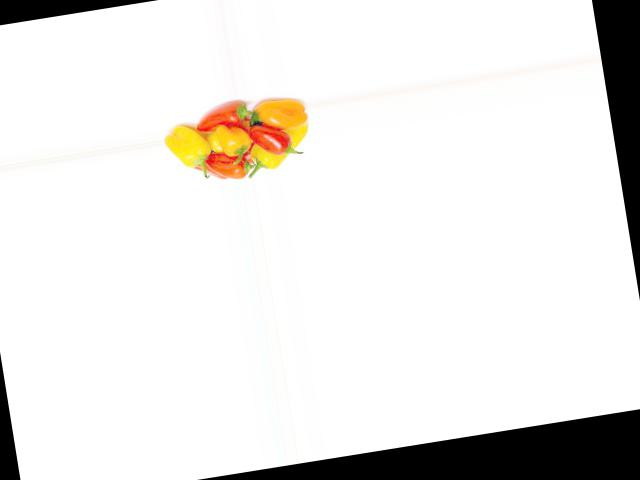bell_pepper: (247, 122, 313, 175)
